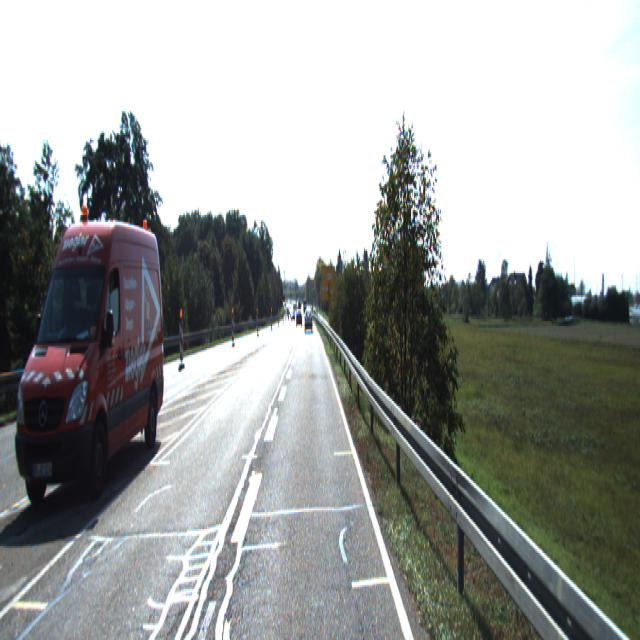Car: (9, 200, 162, 536), (304, 310, 312, 332)
